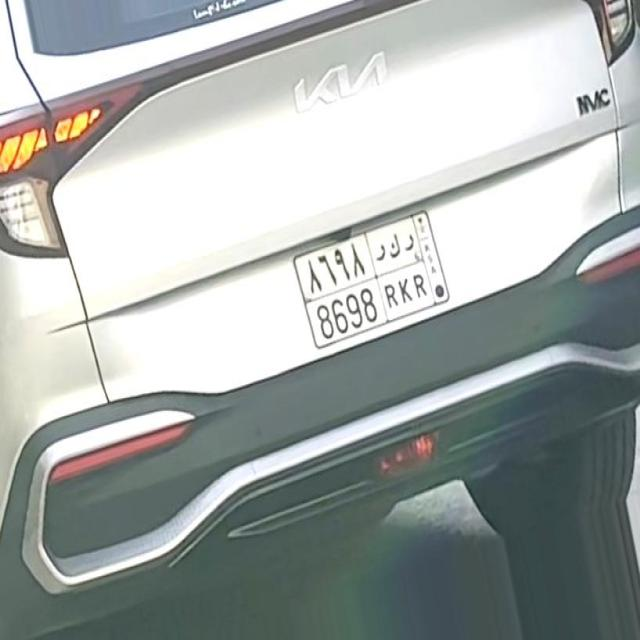Car-plate: (284, 199, 467, 362)
